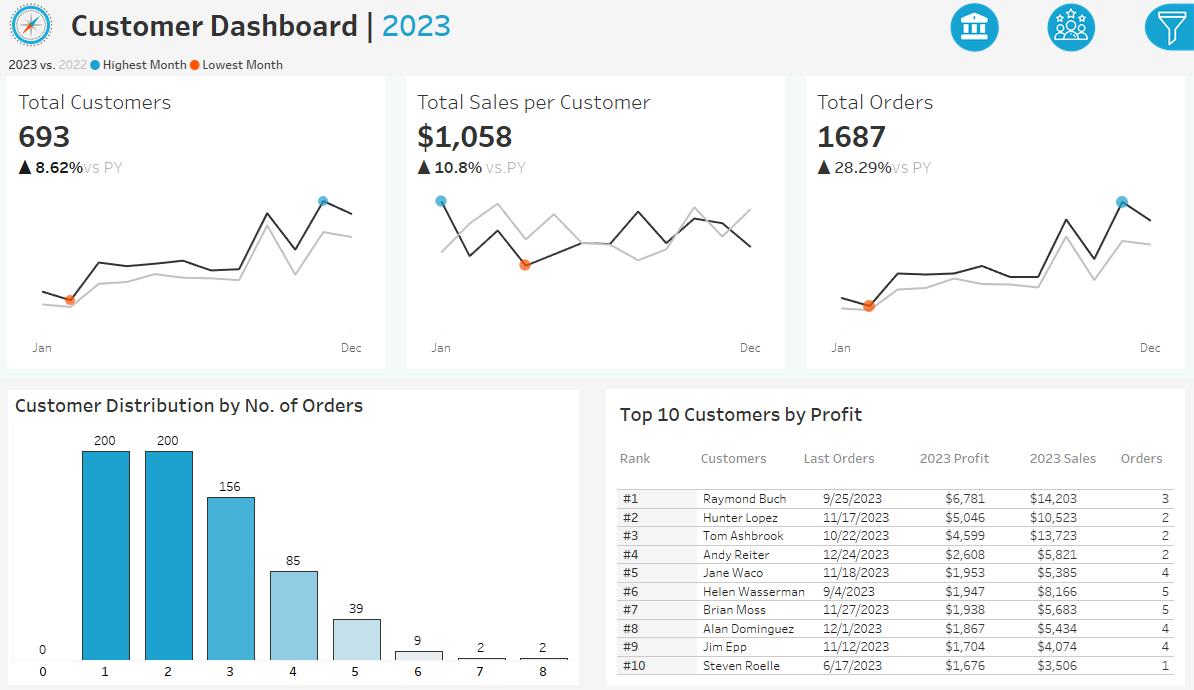

The dashboard page shown, as its layout file describes it:
{"tool":"tableau","page":{"name":"Customer Dashboard","canvas":[1200,800],"ordinal":0},"visuals":[{"type":"image","param":"Image/Icon - Logo.png","box":[1,1,67,53]},{"type":"text","box":[68,1,1131,53]},{"type":"dashboard-object","box":[930,1,97,66]},{"type":"dashboard-object","box":[1027,1,97,66]},{"type":"blank","box":[954,12,235,53]},{"type":"worksheet","title":"Legend KPI","mark":"Automatic","box":[1,54,1198,24]},{"type":"text","box":[954,65,235,34]},{"type":"worksheet","title":"KPI Customer","mark":"Automatic","rows":["Calculation_888053563045863439"],"cols":["Order Date"],"box":[1,78,399.3,303]},{"type":"worksheet","title":"KPI Sales Per Customer","mark":"Automatic","rows":["Calculation_888053563046727697"],"cols":["Order Date"],"box":[400.3,78,399.3,303]},{"type":"worksheet","title":"KPI Orders","mark":"Line","rows":["Calculation_888053563046273040"],"cols":["Order Date"],"box":[799.7,78,399.3,303]},{"type":"parameter","param":"[Parameters].[Parameter 1]","box":[954,99,235,52]},{"type":"text","box":[954,151,235,29]},{"type":"filter","title":"KPI Customer","param":"[federated.0yflek91t7tu3w1cqgzft1cg3itz].[none:Category:nk]","box":[954,180,235,52]},{"type":"filter","title":"KPI Customer","param":"[federated.0yflek91t7tu3w1cqgzft1cg3itz].[none:Sub-Category:nk]","box":[954,232,235,52]},{"type":"blank","box":[954,284,235,50]},{"type":"text","box":[954,334,235,29]},{"type":"filter","title":"KPI Customer","param":"[federated.0yflek91t7tu3w1cqgzft1cg3itz].[none:Region:nk]","box":[954,363,235,52]},{"type":"text","box":[12,392,571,34]},{"type":"text","box":[617,398,565,34]},{"type":"filter","title":"KPI Customer","param":"[federated.0yflek91t7tu3w1cqgzft1cg3itz].[none:State:nk]","box":[954,415,235,52]},{"type":"worksheet","title":"Customer Distribution","mark":"Bar","rows":["Calculation_888053563039252481"],"cols":["Calculation_888053563039690755"],"box":[12,431.6,571,356.4]},{"type":"text","box":[617,432,81,55]},{"type":"text","box":[698,432,103.5,55]},{"type":"text","box":[801.5,432,115,55]},{"type":"text","box":[916.5,432,110,55]},{"type":"text","box":[1026.5,432,91.5,55]},{"type":"text","box":[1118,432,64,55]},{"type":"filter","title":"KPI Customer","param":"[federated.0yflek91t7tu3w1cqgzft1cg3itz].[none:City:nk]","box":[954,467,235,52]},{"type":"worksheet","title":"Top Customers","mark":"Automatic","rows":["Calculation_888053563128352802","Customer Name","Order Date"],"box":[617,487,565,295]}]}

Visuals, with their boxes on the page's 1200x800 design canvas (x1, y1, x2, y2). These are canvas units, not pixel positions in the 1194x690 screenshot, which may show the page scaled, cropped or inside an application window:
image: [x1=1, y1=1, x2=68, y2=54]
text: [x1=68, y1=1, x2=1199, y2=54]
dashboard-object: [x1=930, y1=1, x2=1027, y2=67]
dashboard-object: [x1=1027, y1=1, x2=1124, y2=67]
blank: [x1=954, y1=12, x2=1189, y2=65]
"Legend KPI" worksheet: [x1=1, y1=54, x2=1199, y2=78]
text: [x1=954, y1=65, x2=1189, y2=99]
"KPI Customer" worksheet: [x1=1, y1=78, x2=400, y2=381]
"KPI Sales Per Customer" worksheet: [x1=400, y1=78, x2=800, y2=381]
"KPI Orders" worksheet (Line marks): [x1=800, y1=78, x2=1199, y2=381]
parameter: [x1=954, y1=99, x2=1189, y2=151]
text: [x1=954, y1=151, x2=1189, y2=180]
"KPI Customer" filter: [x1=954, y1=180, x2=1189, y2=232]
"KPI Customer" filter: [x1=954, y1=232, x2=1189, y2=284]
blank: [x1=954, y1=284, x2=1189, y2=334]
text: [x1=954, y1=334, x2=1189, y2=363]
"KPI Customer" filter: [x1=954, y1=363, x2=1189, y2=415]
text: [x1=12, y1=392, x2=583, y2=426]
text: [x1=617, y1=398, x2=1182, y2=432]
"KPI Customer" filter: [x1=954, y1=415, x2=1189, y2=467]
"Customer Distribution" worksheet (Bar marks): [x1=12, y1=432, x2=583, y2=788]
text: [x1=617, y1=432, x2=698, y2=487]
text: [x1=698, y1=432, x2=802, y2=487]
text: [x1=802, y1=432, x2=916, y2=487]
text: [x1=916, y1=432, x2=1026, y2=487]
text: [x1=1026, y1=432, x2=1118, y2=487]
text: [x1=1118, y1=432, x2=1182, y2=487]
"KPI Customer" filter: [x1=954, y1=467, x2=1189, y2=519]
"Top Customers" worksheet: [x1=617, y1=487, x2=1182, y2=782]
